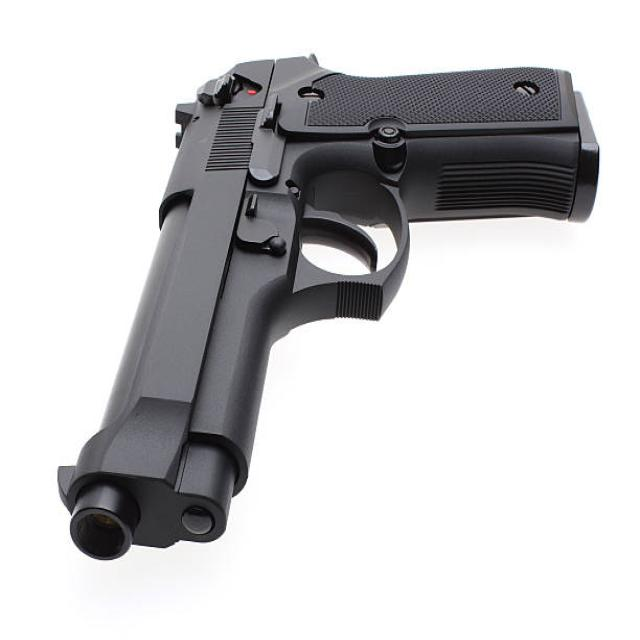pistol: (53, 43, 607, 569)
